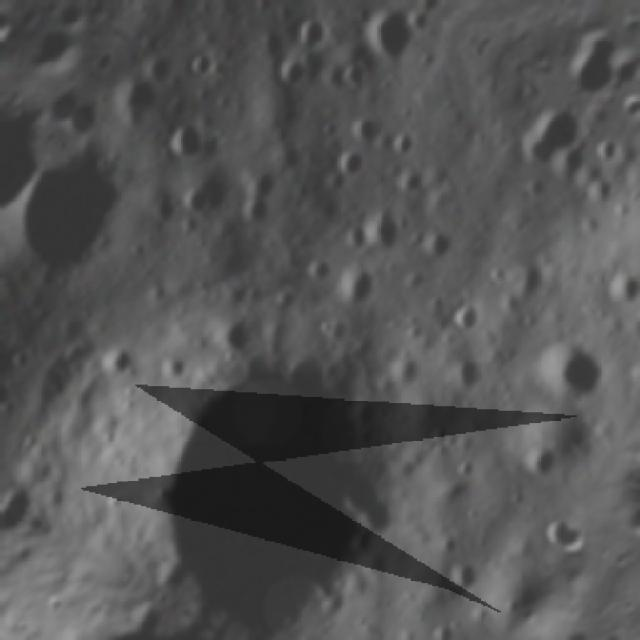crater: (84, 281, 457, 640), (0, 129, 140, 289), (510, 88, 602, 184), (528, 321, 618, 410), (354, 0, 435, 71), (348, 188, 415, 255), (156, 108, 221, 172), (324, 249, 388, 314), (431, 541, 492, 605), (105, 66, 167, 126), (511, 432, 567, 488), (234, 152, 289, 206), (285, 5, 338, 58), (213, 304, 265, 358), (595, 255, 640, 316), (444, 288, 496, 340), (138, 178, 188, 230), (444, 344, 496, 394), (266, 44, 316, 94), (92, 333, 143, 382), (341, 96, 390, 146), (416, 221, 464, 268), (140, 40, 186, 88), (61, 91, 104, 142), (232, 188, 278, 232), (295, 244, 339, 290), (180, 42, 225, 86), (173, 174, 218, 218), (328, 136, 372, 179), (590, 127, 632, 171), (382, 120, 424, 160), (453, 624, 499, 640), (0, 290, 11, 344), (635, 302, 640, 344)
